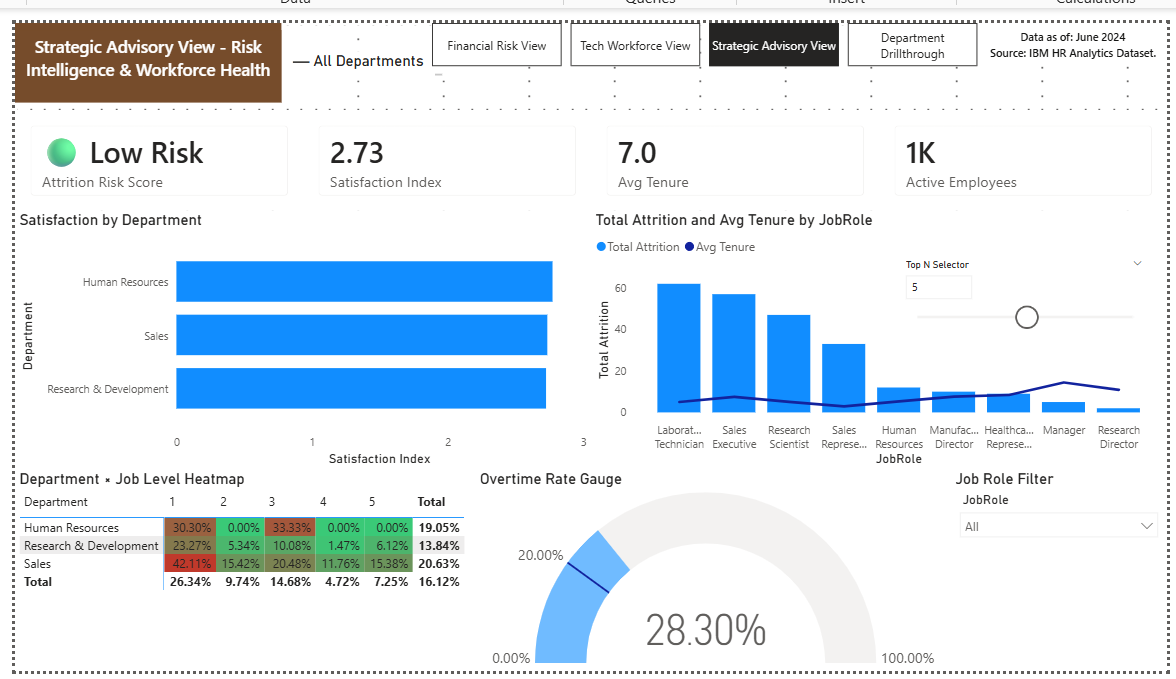

What the dashboard file says about the page in this screenshot:
{"tool":"powerbi","page":{"name":"Strategic Advisory View","canvas":[1280,720],"ordinal":2},"visuals":[{"type":"shape","box":[0,0,296,88],"z":0},{"type":"textbox","box":[0,8,296,80],"z":1000},{"type":"cardVisual","fields":{"Data":["_Measures.Attrition Risk Score"]},"box":[0,96,320,112],"z":2000},{"type":"cardVisual","fields":{"Data":["_Measures.Satisfaction Index"]},"box":[320,96,320,112],"z":3000},{"type":"cardVisual","fields":{"Data":["_Measures.Avg Tenure"]},"box":[640,96,320,112],"z":4000},{"type":"cardVisual","fields":{"Data":["_Measures.Active Employees"]},"box":[960,96,320,112],"z":5000},{"type":"clusteredBarChart","title":"Satisfaction by Department","fields":{"Category":["DimDepartment.Department"],"Y":["_Measures.Satisfaction Index"]},"box":[0,208,640,288],"z":6000},{"type":"lineClusteredColumnComboChart","fields":{"Category":["DimJobRole.JobRole"],"Y":["_Measures.Total Attrition"],"Y2":["_Measures.Avg Tenure"]},"box":[640,208,640,288],"z":7000},{"type":"pivotTable","title":"Department × Job Level Heatmap","fields":{"Rows":["DimDepartment.Department"],"Columns":["FactEmployeeMetrics.JobLevel"],"Values":["_Measures.Attrition Rate %"]},"box":[0,496,512,224],"z":8000},{"type":"gauge","title":"Overtime Rate Gauge","fields":{"Y":["_Measures.Overtime Rate %"]},"box":[512,496,528,224],"z":9000},{"type":"slicer","title":"Job Role Filter","fields":{"Values":["DimJobRole.JobRole"]},"box":[1040,496,240,224],"z":10000},{"type":"textbox","box":[1072,0,208,48],"z":11000},{"type":"textbox","box":[304,32,176,32],"z":12000},{"type":"pageNavigator","box":[464,0,608,48],"z":13000},{"type":"slicer","fields":{"Values":["Top N Selector.Top N Selector"]},"box":[976,256,288,96],"z":14000}]}

Visuals, with their boxes on the page's 1280x720 design canvas (x1, y1, x2, y2). These are canvas units, not pixel positions in the 1176x679 screenshot, which may show the page scaled, cropped or inside an application window:
shape: (0,0,296,88)
textbox: (0,8,296,88)
cardVisual - _Measures.Attrition Risk Score: (0,96,320,208)
cardVisual - _Measures.Satisfaction Index: (320,96,640,208)
cardVisual - _Measures.Avg Tenure: (640,96,960,208)
cardVisual - _Measures.Active Employees: (960,96,1280,208)
"Satisfaction by Department" clusteredBarChart: (0,208,640,496)
lineClusteredColumnComboChart - DimJobRole.JobRole x _Measures.Total Attrition: (640,208,1280,496)
"Department × Job Level Heatmap" pivotTable: (0,496,512,720)
"Overtime Rate Gauge" gauge: (512,496,1040,720)
"Job Role Filter" slicer: (1040,496,1280,720)
textbox: (1072,0,1280,48)
textbox: (304,32,480,64)
pageNavigator: (464,0,1072,48)
slicer - Top N Selector.Top N Selector: (976,256,1264,352)
